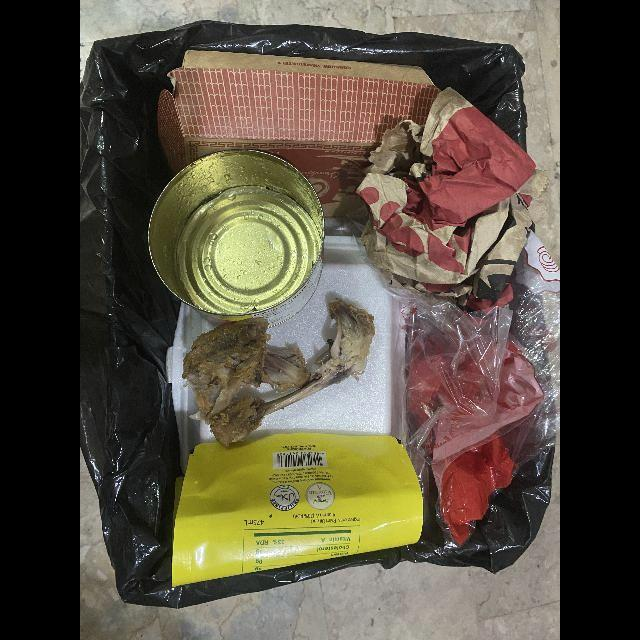aluminum: (148, 149, 325, 328)
cardboard: (158, 51, 439, 217)
food_wrapper: (171, 433, 424, 587)
left_over_food: (182, 298, 376, 448)
paper: (356, 88, 536, 312)
plastic_bag: (390, 230, 560, 547)
